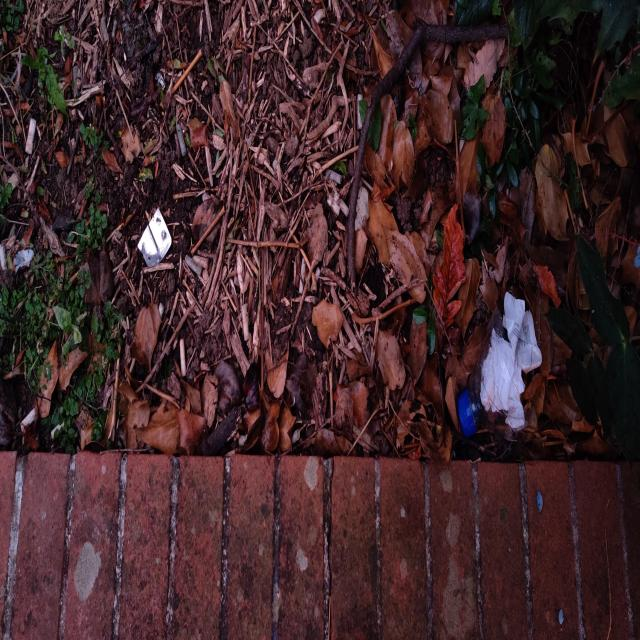litter: (459, 309, 527, 442), (481, 292, 542, 428), (137, 207, 172, 268), (14, 248, 34, 275)
